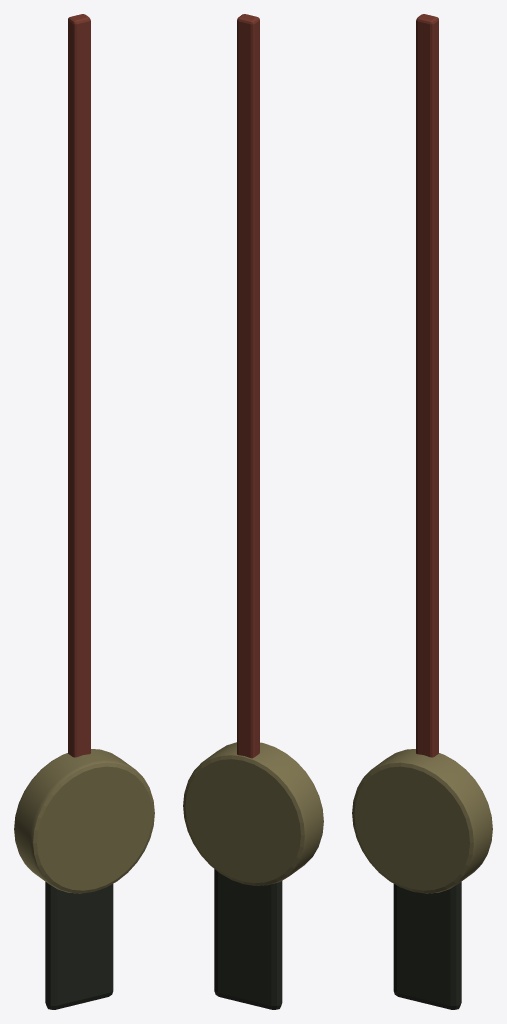
The model's file is Gauge_Needle.fbx.
3 renders of one model, left to right at view 1: azimuth 30°, elevation 25°; view 2: azimuth 150°, elevation 25°; view 3: azimuth 330°, elevation 25°, orthographic.
Parts seen in each view (by area): view 1: Gauge_Needle_EXPORT; view 2: Gauge_Needle_EXPORT; view 3: Gauge_Needle_EXPORT.
Part boxes in pixels (x1,y1,x2,y2): Gauge_Needle_EXPORT: [14, 14, 154, 1009]; Gauge_Needle_EXPORT: [183, 14, 323, 1009]; Gauge_Needle_EXPORT: [352, 14, 492, 1009].
Bounding box in the file's own units: 0.028 × 0.212 × 0.008.
